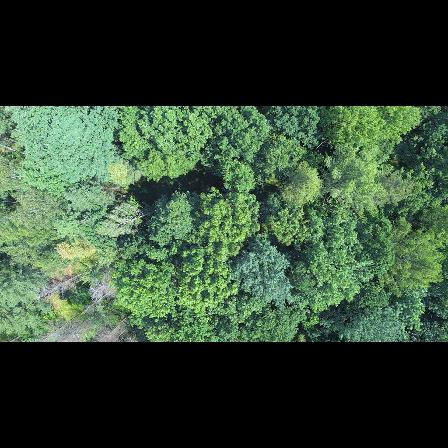Dead: (41, 269, 88, 296), (116, 203, 159, 231), (44, 312, 87, 340), (74, 292, 112, 318), (102, 314, 133, 341), (90, 276, 117, 294)
